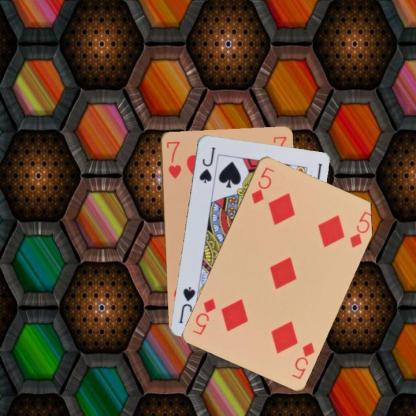5d: (248, 164, 276, 205), (290, 339, 316, 380)
7h: (164, 138, 182, 180)
Js: (196, 144, 216, 184)
